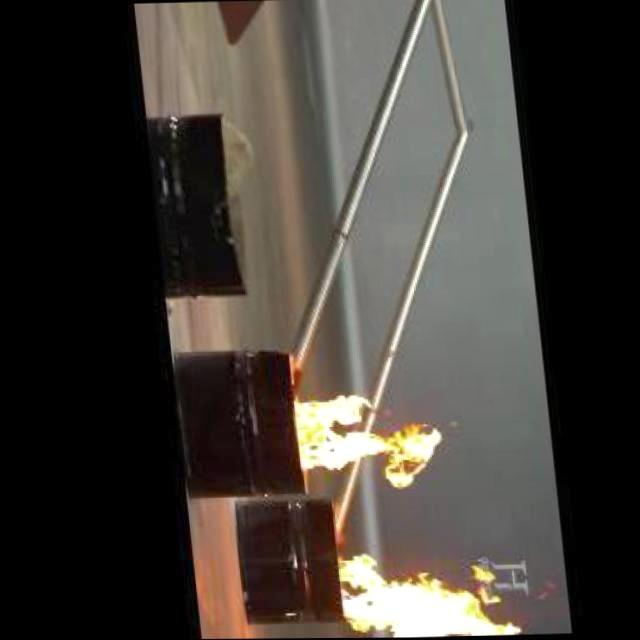fire: (303, 522, 509, 638), (284, 374, 444, 486)
